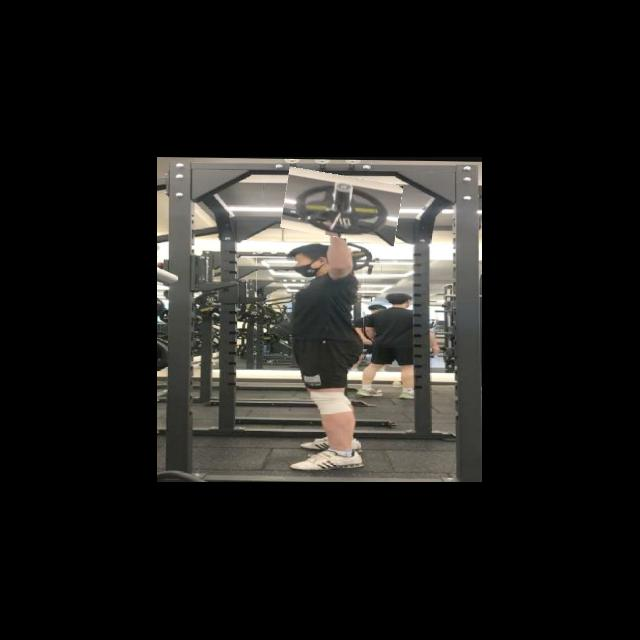barbell: (283, 171, 402, 242)
